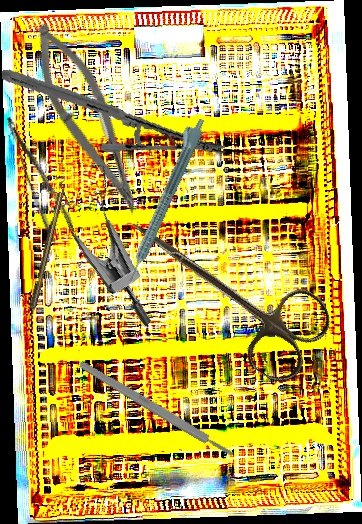Dressing Forceps: (3, 107, 77, 244)
Handpiece: (117, 114, 208, 284)
Hook Surgical: (24, 191, 65, 328)
Iris Scissors: (103, 188, 340, 391)
Micro Scissor: (14, 13, 165, 223)
Needle Holder: (1, 34, 226, 190)
Scalpel Handle: (77, 359, 236, 460)
Speculum: (26, 148, 205, 329)
